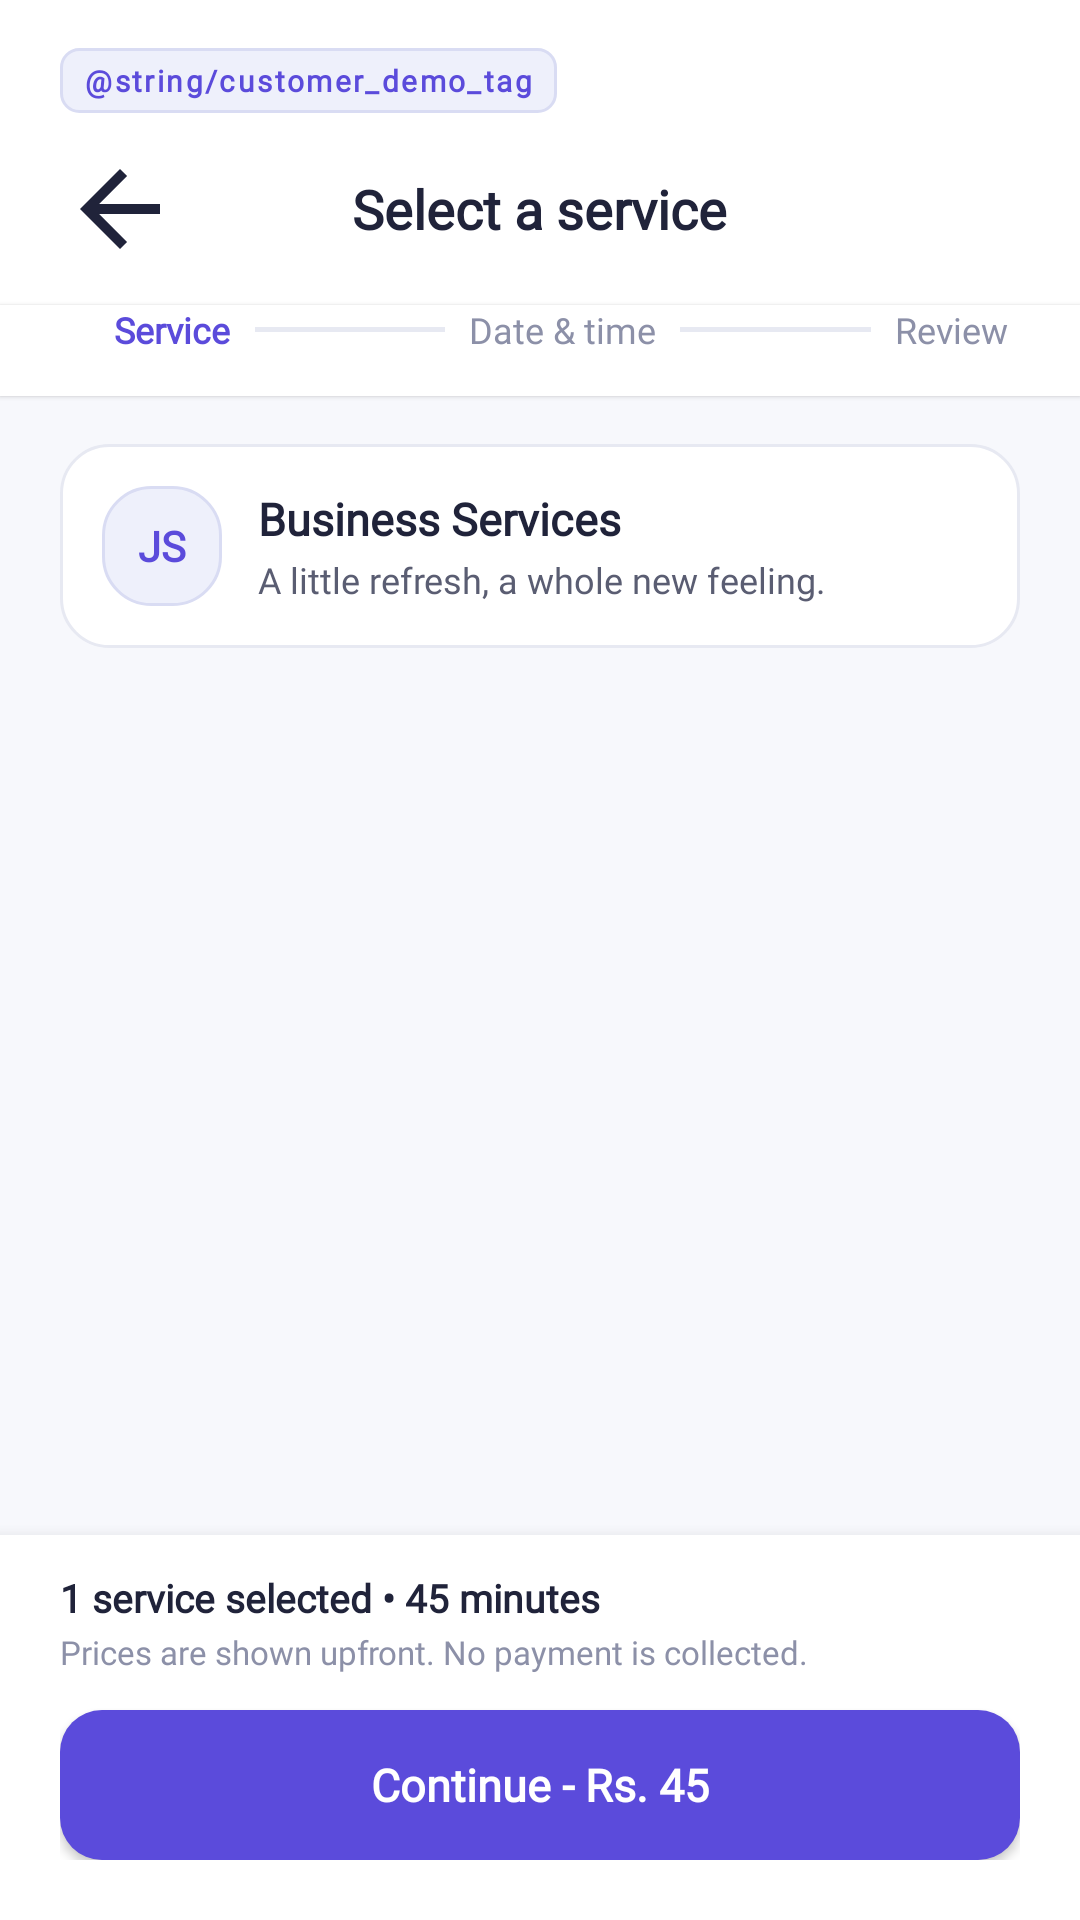

Icons on this 1080x1920 Android screen, each with its box as bbox=(x1, y1, x2, y2):
arrow back: bbox=(80, 169, 160, 249)
